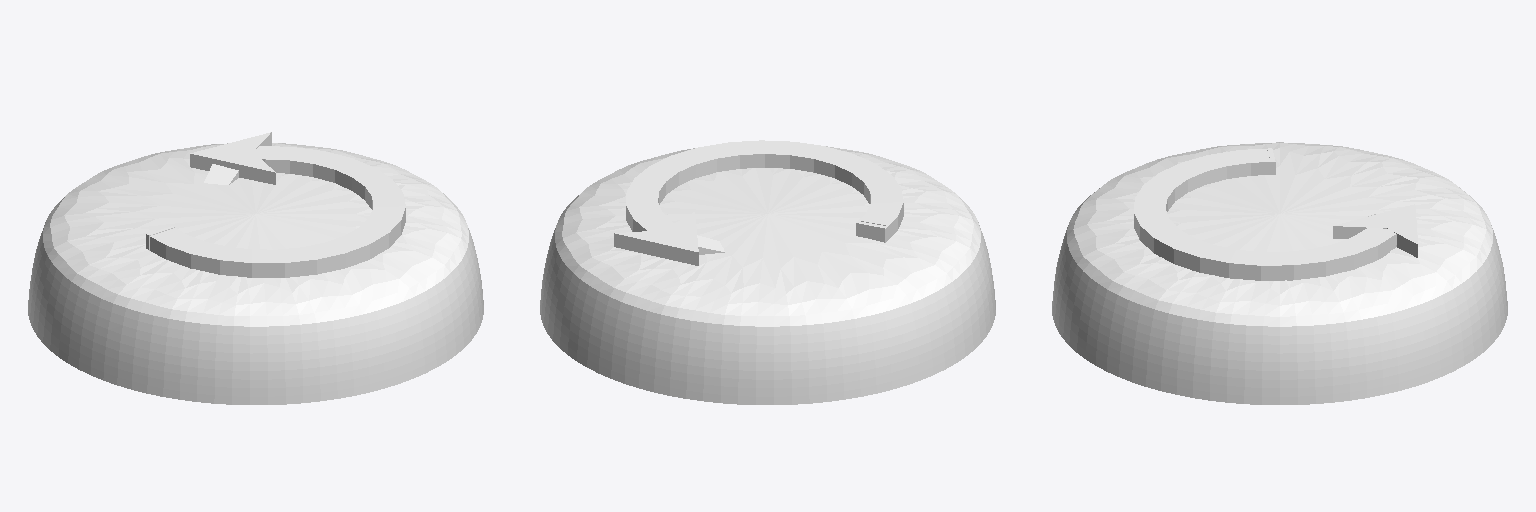
Rendered from doorpuzzleknob.obj.
3 views of the same model, side by side, from view 1: azimuth 30°, elevation 25°; view 2: azimuth 150°, elevation 25°; view 3: azimuth 270°, elevation 25° (orthographic).
Visible parts, largest first — view 1: pSphere2; view 2: pSphere2; view 3: pSphere2.
Boxes of the visible parts, <box> form: pSphere2: <box>28,132,483,404</box>; pSphere2: <box>540,140,995,404</box>; pSphere2: <box>1052,142,1507,404</box>.
Bounding box in the file's own units: 1.97 × 0.5047 × 1.97.